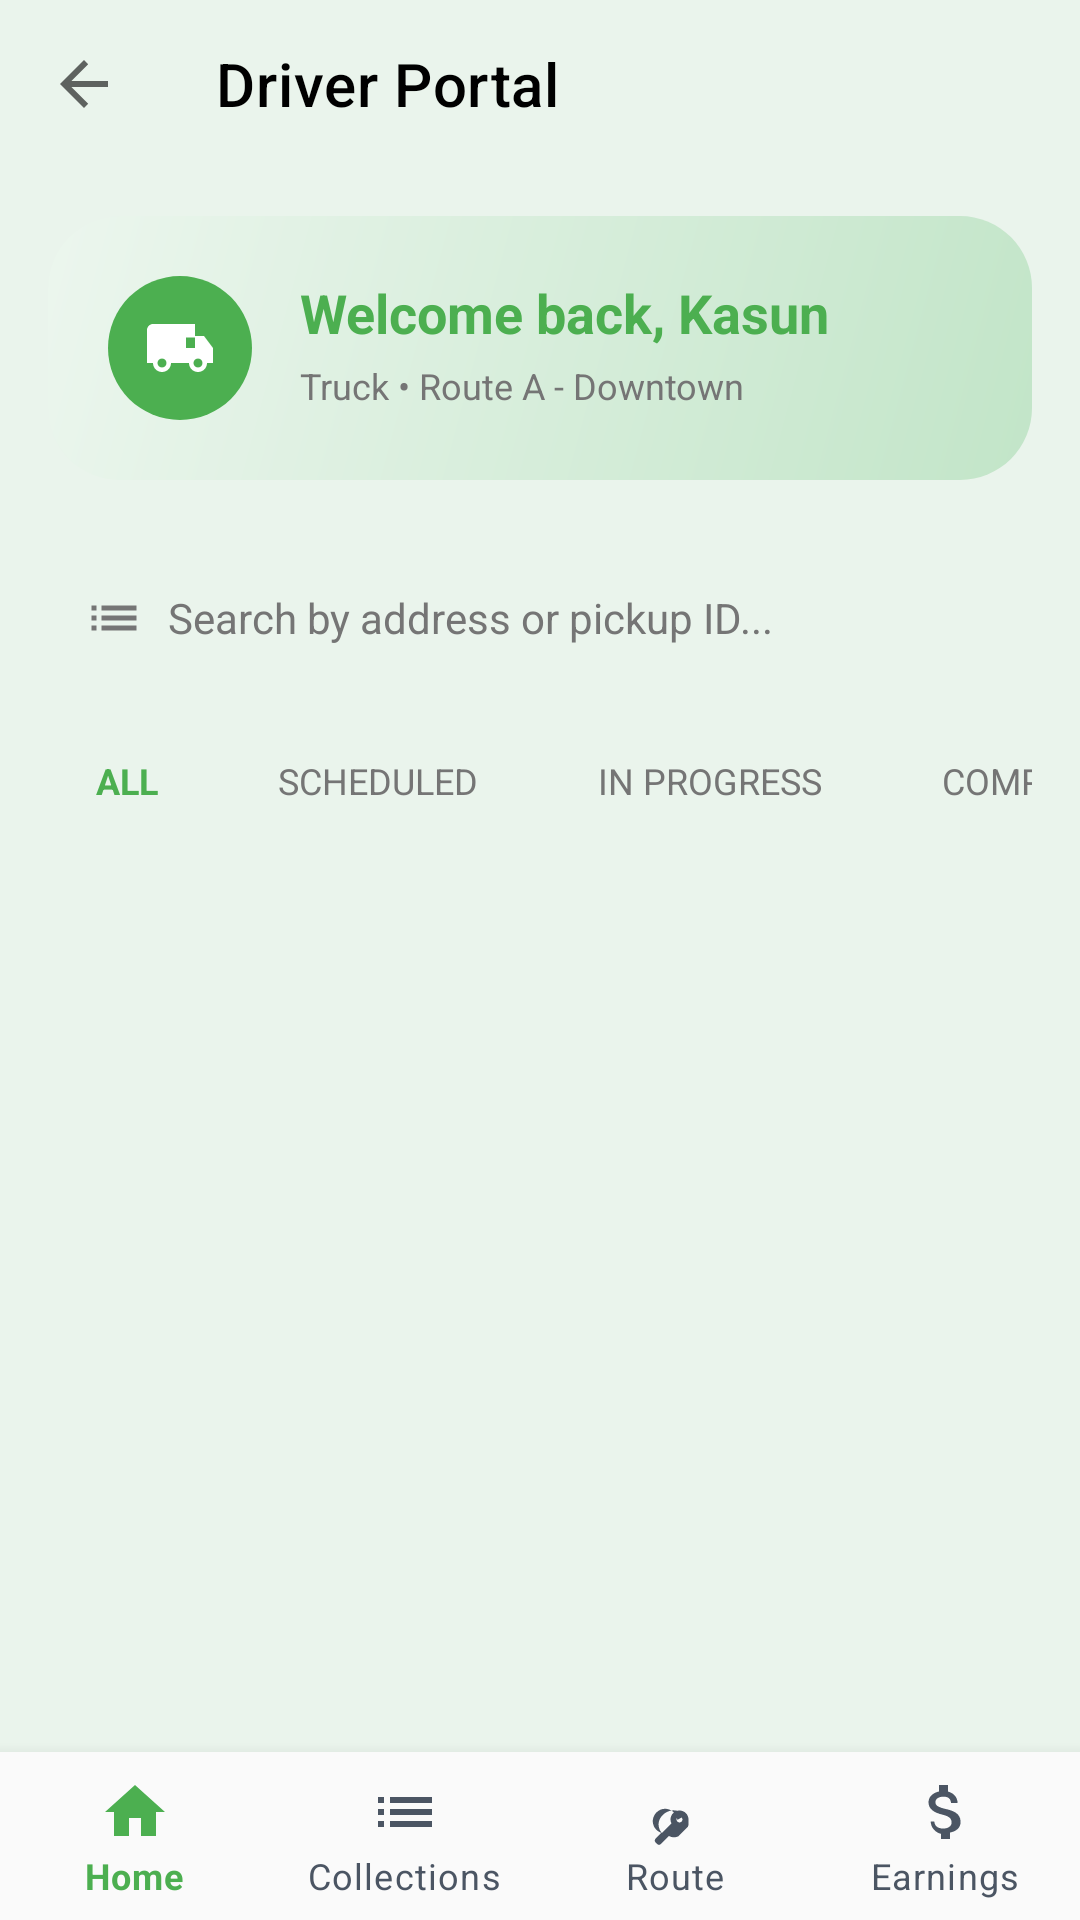

Icon bounding boxes for this 1080*1920 phone screenshot, format box(x1, y1, x2, y2):
list: box(91, 605, 137, 631)
